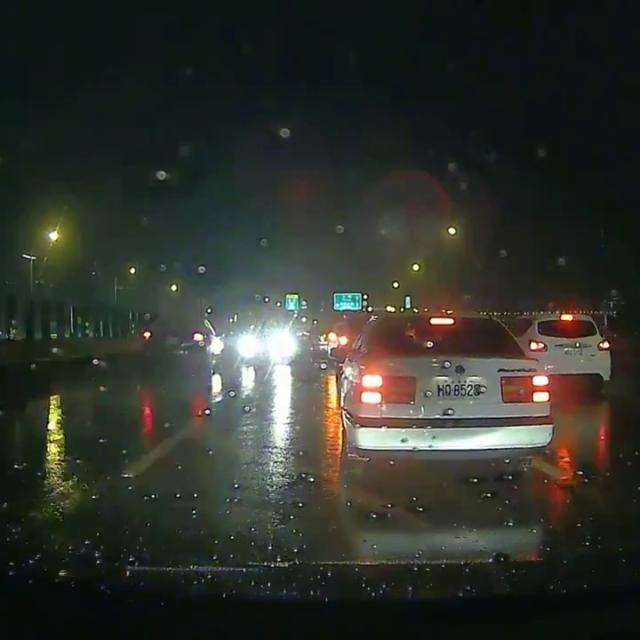Car: (330, 311, 553, 456), (515, 312, 615, 390), (137, 307, 223, 379)
